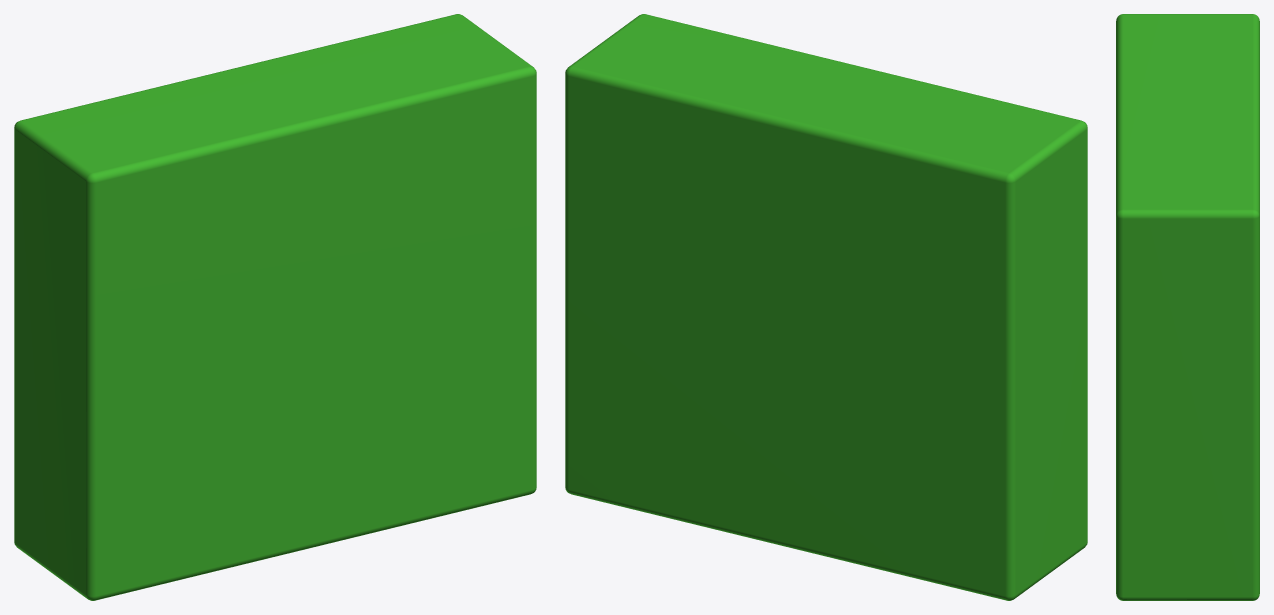
File: Square Small.fbx
3 renders of one model, left to right at view 1: azimuth 30°, elevation 25°; view 2: azimuth 150°, elevation 25°; view 3: azimuth 270°, elevation 25°, orthographic. The views are drawn at different scales.
Parts seen in each view (by area): view 1: SM_Square_Small; view 2: SM_Square_Small; view 3: SM_Square_Small.
Boxes of the visible parts, <box> form: SM_Square_Small: <box>14,14,536,600</box>; SM_Square_Small: <box>565,14,1087,600</box>; SM_Square_Small: <box>1116,14,1259,600</box>.
Bounding box in the file's own units: 6.72 × 6.1 × 2.03.
